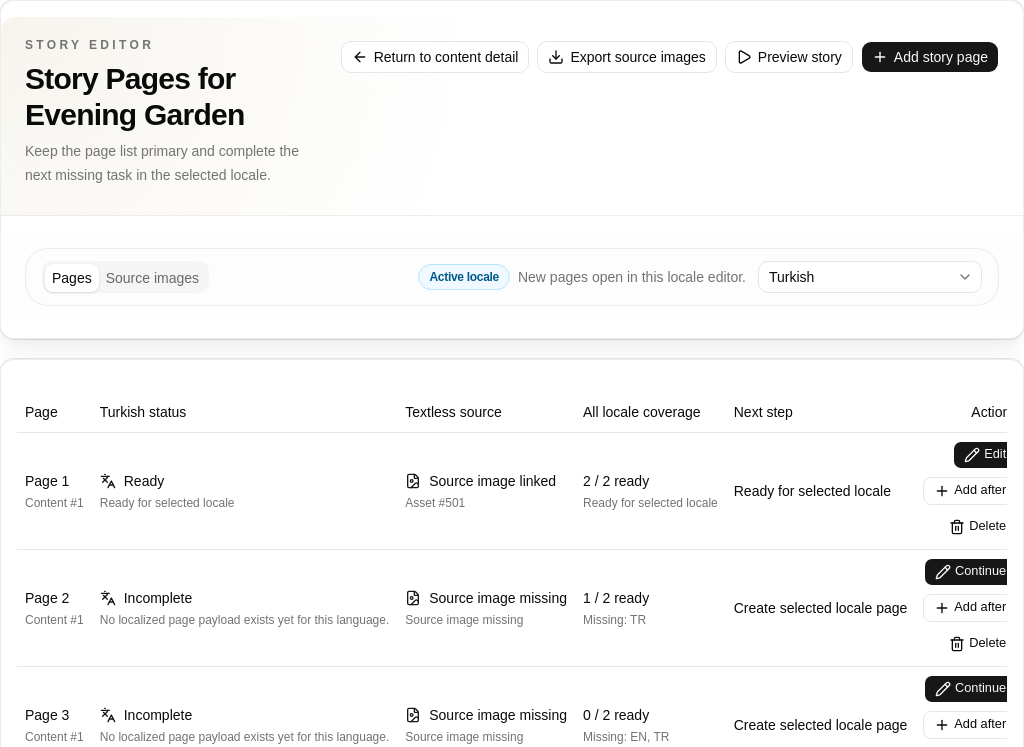
Test case: StoryPagesRoute › keeps the active editor language while navigating story pages
Step 1. Click the button with aria-label "continue page 2" → [971, 572], box [924,558,1017,586]
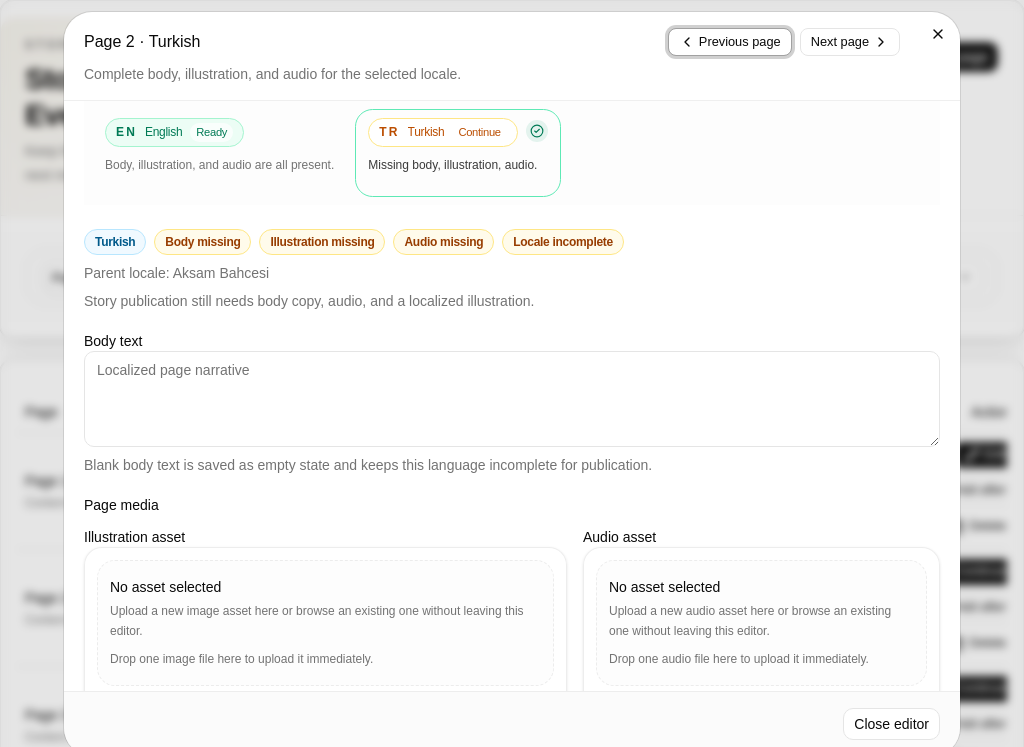
Result: the heading "Page 2 · Turkish" is shown at [84,34,200,50]
Step 2. Click the button "Next page" → [850, 42], box [800,28,900,56]
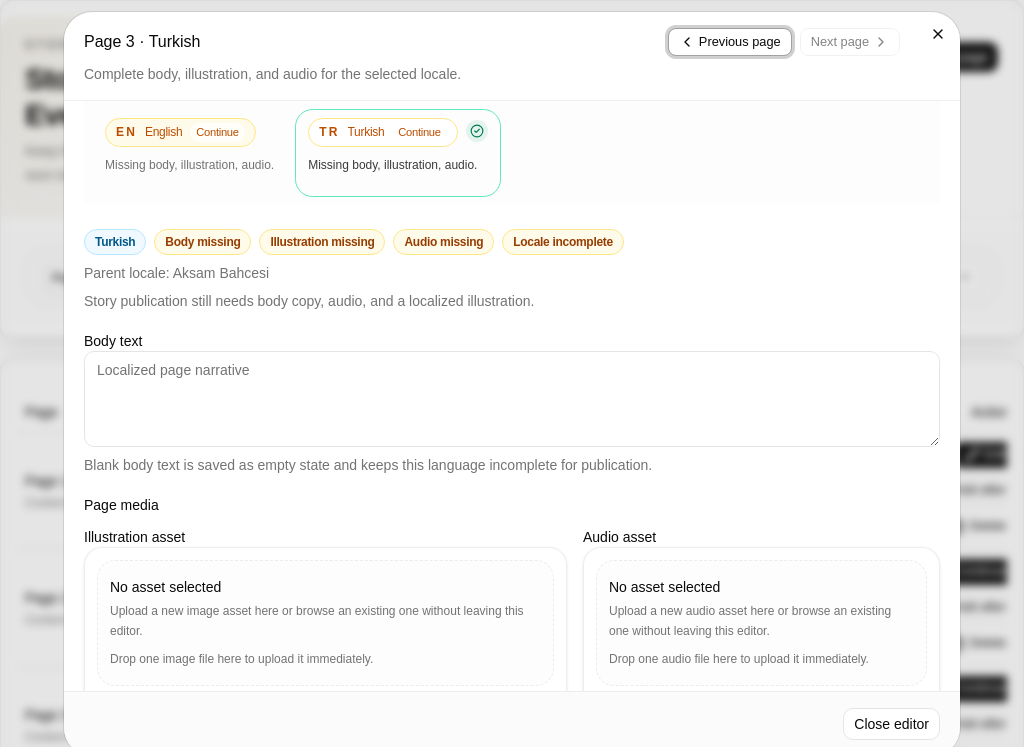
Result: the text "Parent locale: Aksam Bahcesi" is shown at [84,265,269,281]
Result: the heading "Page 3 · Turkish" is shown at [84,34,200,50]
